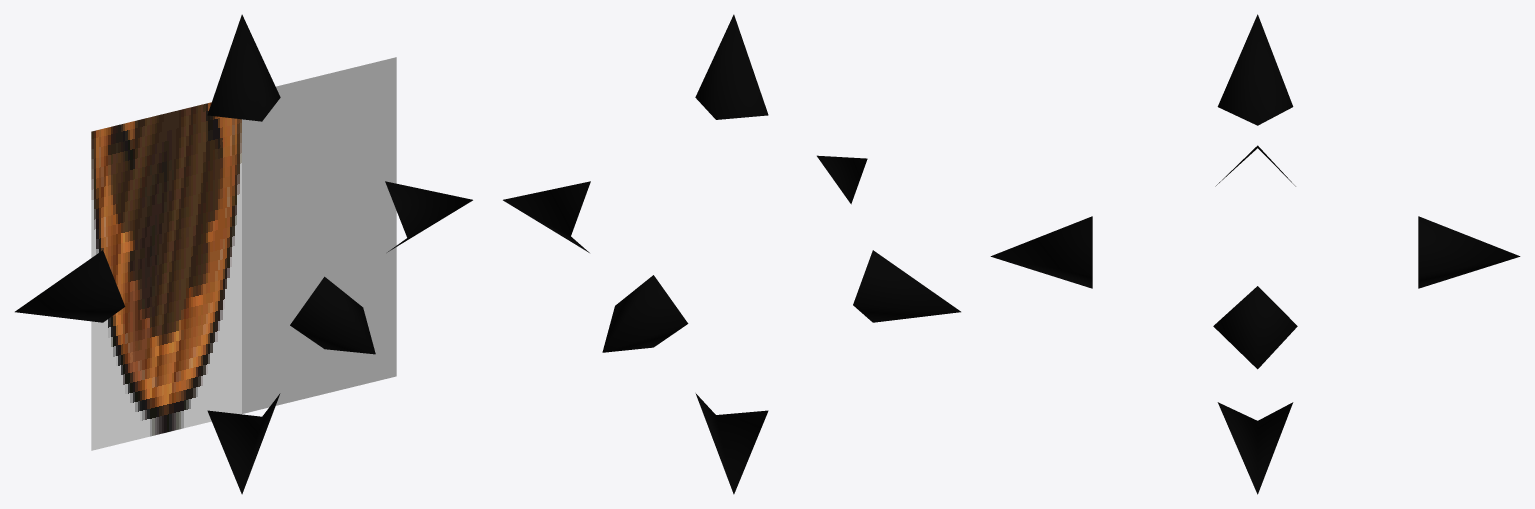
File: watermine.glb
The picture shows the model from 3 angles, left to right: view 1: azimuth 30°, elevation 25°; view 2: azimuth 150°, elevation 25°; view 3: azimuth 270°, elevation 25°; orthographic projection.
Parts seen in each view (by area): view 1: mine, spike; view 2: spike; view 3: spike.
Boxes of the visible parts, x1,y1,x2,y2 form: mine: (91, 57, 396, 450); spike: (15, 14, 472, 494); spike: (503, 14, 960, 494); spike: (990, 14, 1520, 494).
Bounding box in the file's own units: 119 × 119 × 119.
